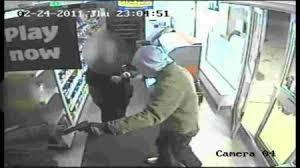weapon: (64, 118, 101, 139)
